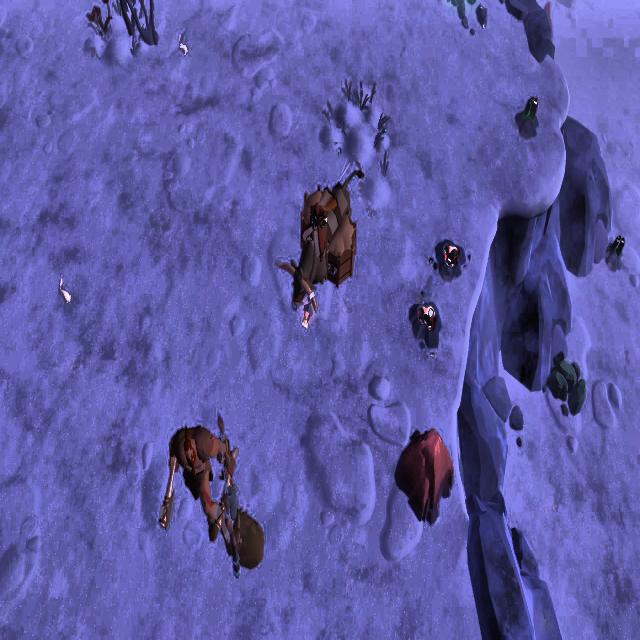enemy_factionKeeper: (160, 414, 230, 547)
ore_t3: (519, 93, 539, 124), (609, 230, 624, 263)
rock_t3: (545, 343, 586, 423)
rock_t5: (392, 423, 454, 524)
